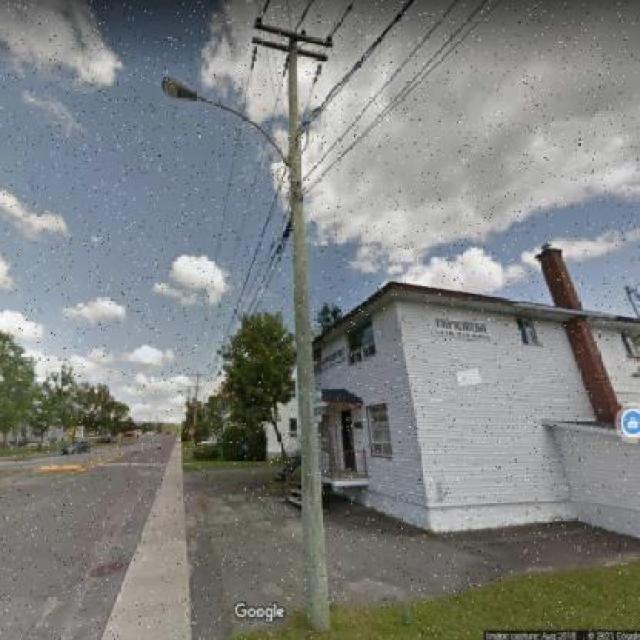crossarm: (253, 19, 333, 47), (250, 39, 328, 63)
pole: (283, 37, 328, 631)
wire: (305, 1, 502, 196), (306, 0, 460, 182), (204, 0, 271, 303), (360, 0, 488, 137), (243, 1, 314, 214), (302, 0, 413, 136), (220, 163, 289, 348), (302, 0, 360, 123), (245, 223, 290, 318)
